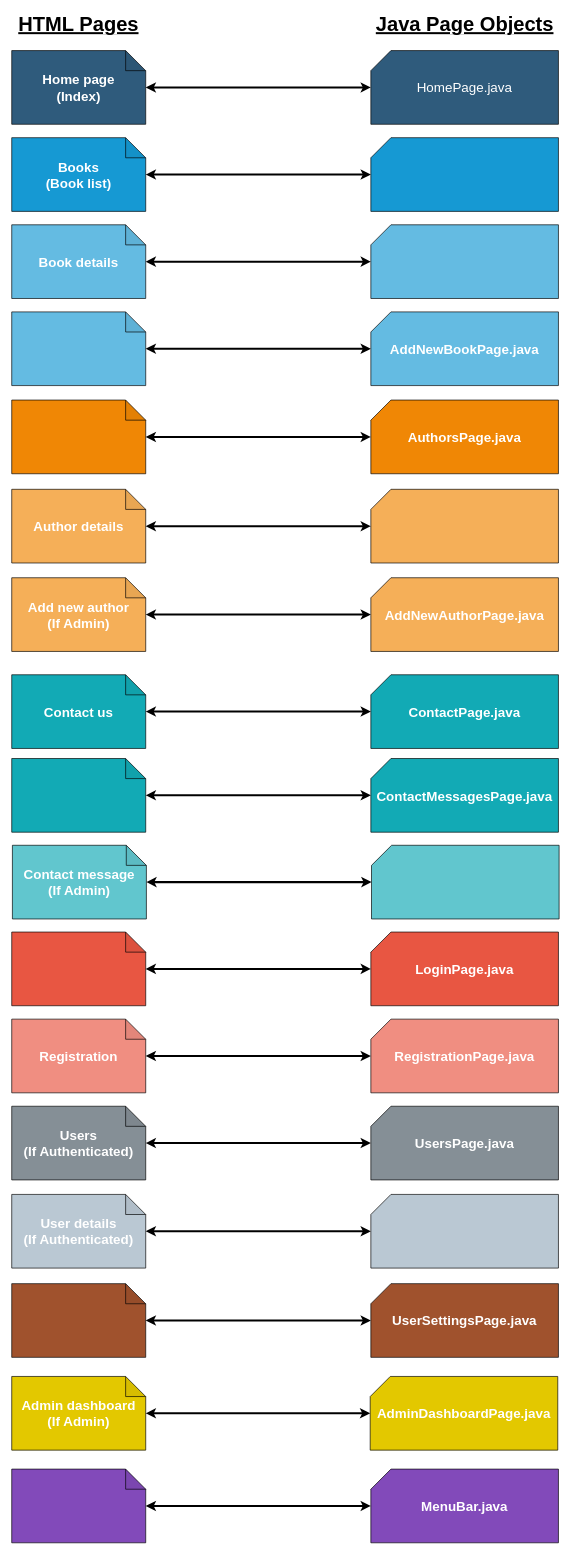
The diagram is 573 pixels wide and 1554 high, and some of its shapes have lost their labels. Each missing label, with the centre of its shape:
Add new book (If Admin): pixel 78 348
AuthorPage.java: pixel 464 526
Authors (Author list): pixel 78 436
BookPage.java: pixel 464 261
BooksPage.java: pixel 464 174
Contact messages (If Admin): pixel 78 795
ContactMessagePage.java: pixel 465 882
Navigation menu: pixel 78 1505
Sign In: pixel 78 968
User settings (If Authenticated): pixel 78 1320
UserDetailsPage.java: pixel 464 1231
